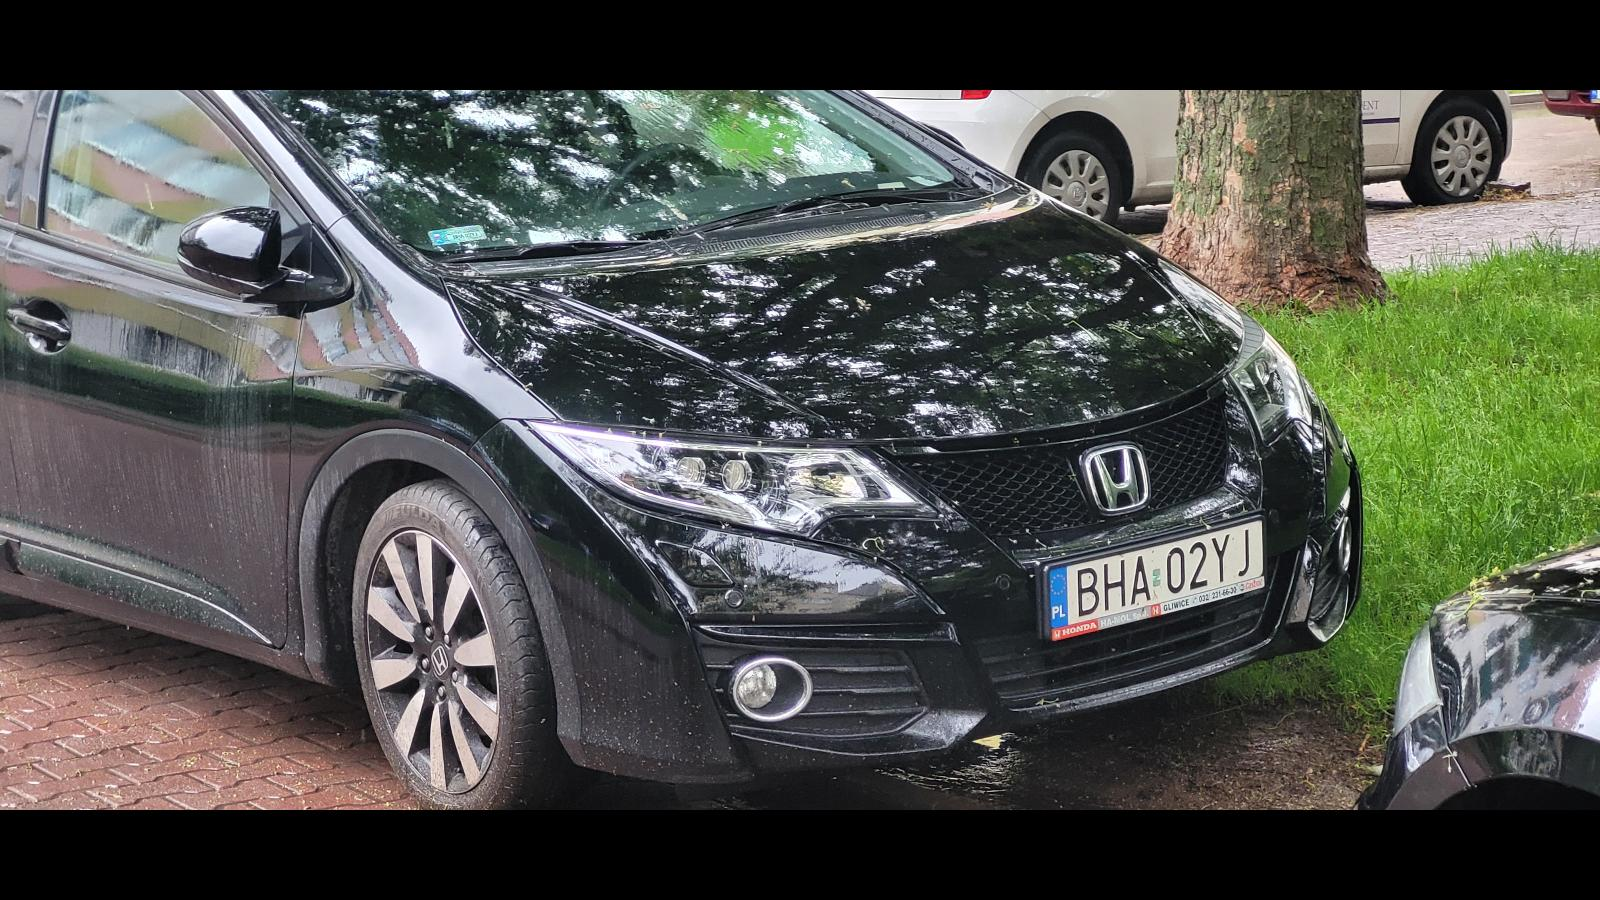plates: (1043, 515, 1267, 641)
